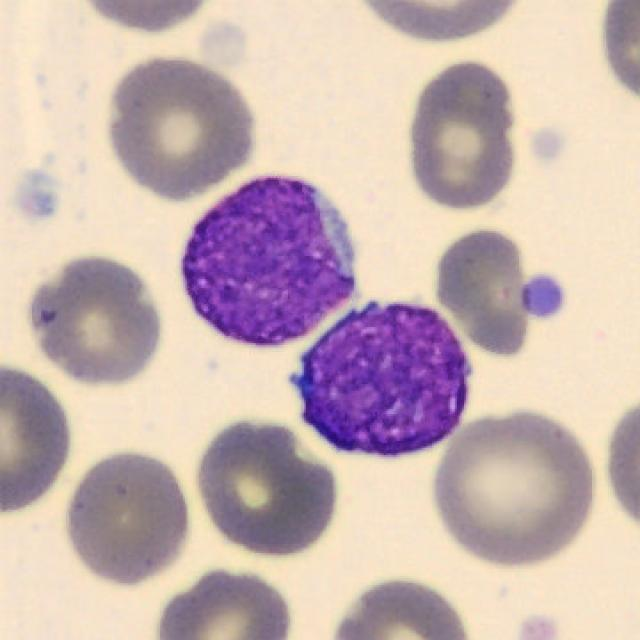Linfocito: (180, 176, 357, 347), (290, 304, 471, 459)
